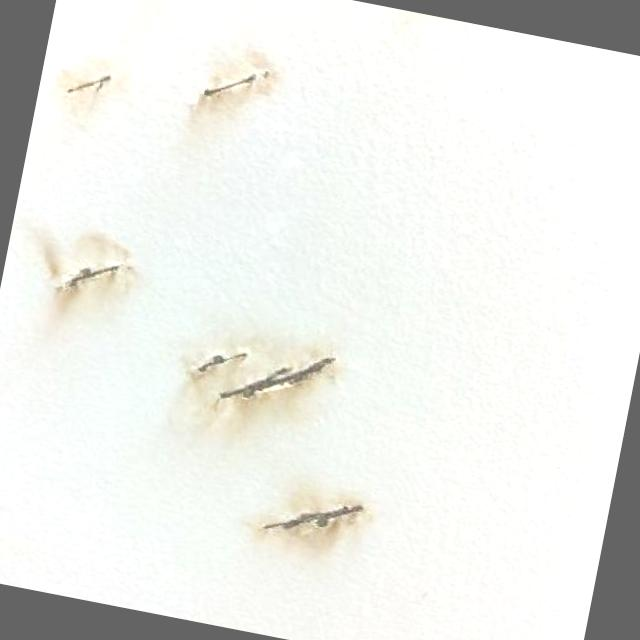crack: (223, 338, 333, 418), (266, 494, 360, 544), (200, 59, 270, 113), (62, 251, 125, 297), (64, 70, 110, 100), (200, 346, 243, 374)
